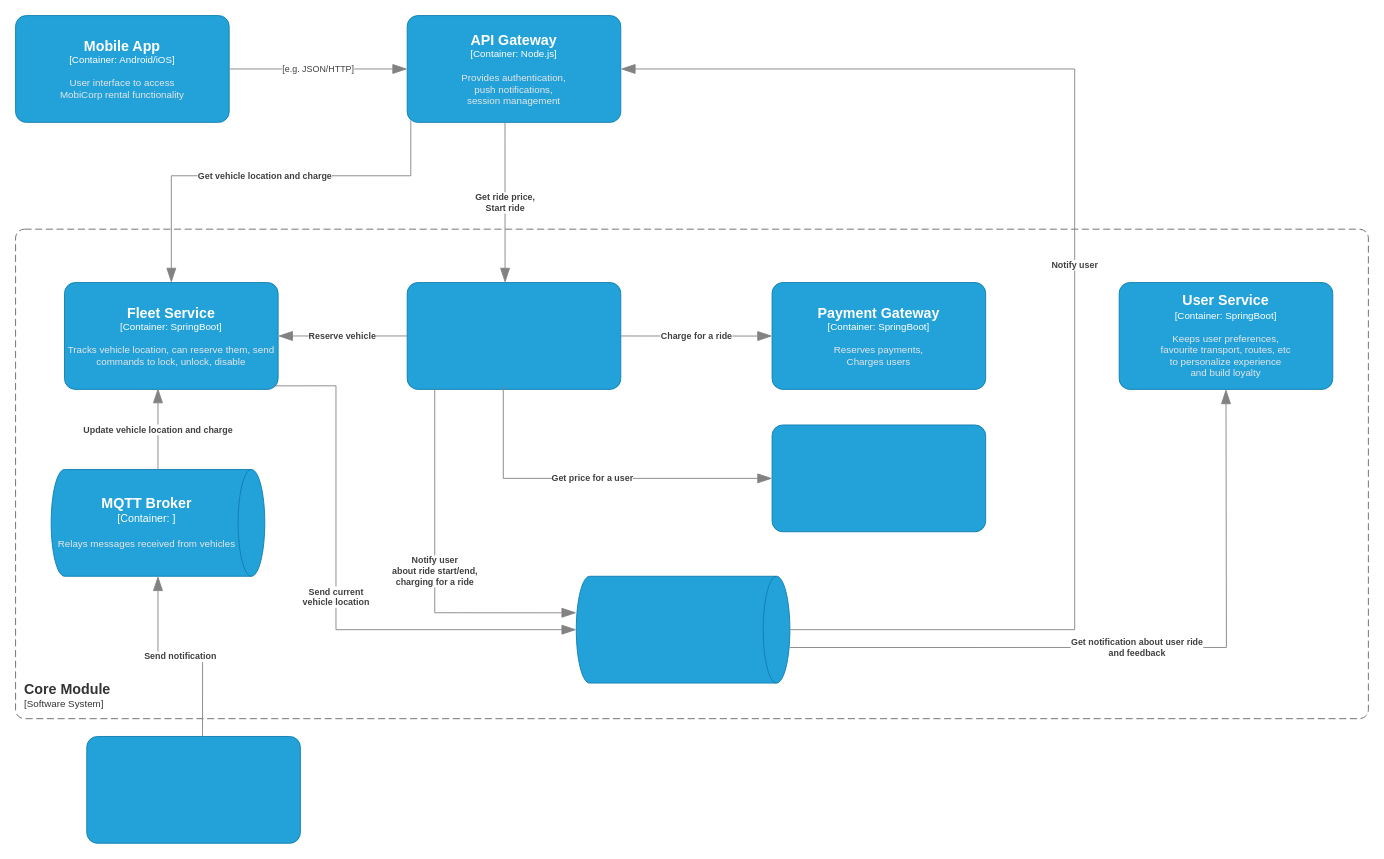
This 1384x859 diagram has some shape labels left out. The centre of each missing label's shape, as x and y in pixels:
Event Backbone [Container: Apache Kafka] Message broker: (682,629)
Price Service [Container: SpringBoot] Offers dynamic price for each user: (878,478)
Ride Service [Container: SpringBoot] Manages ride info: (513,335)
Vehicle [Container: Hardware] Notifies about its location and charge: (193,789)
